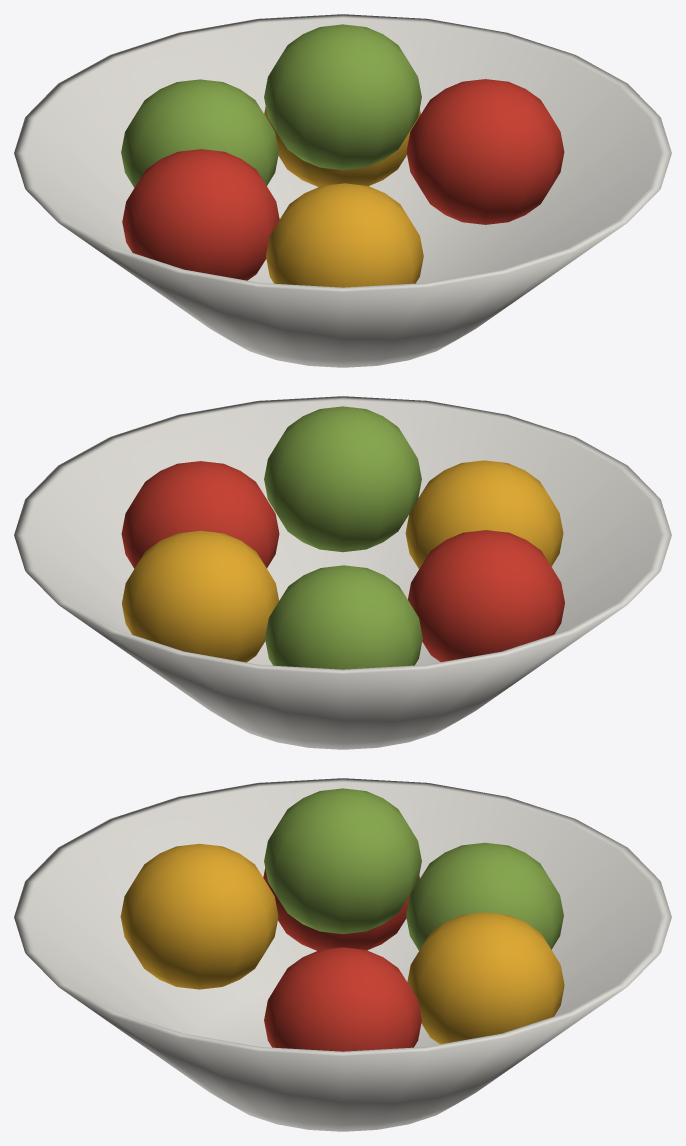
File: i_kit_6.glb
3 renders of one model, top to bottom at view 1: azimuth 30°, elevation 25°; view 2: azimuth 150°, elevation 25°; view 3: azimuth 270°, elevation 25°, orthographic.
Parts seen in each view (by area): view 1: o, o.001, o.006, o.004, o.005, o.003, o.002; view 2: o, o.006, o.004, o.002, o.003, o.001, o.005; view 3: o, o.005, o.006, o.002, o.001, o.003, o.004.
Boxes of the visible parts, <box> form: o: <box>14,14,671,367</box>; o.001: <box>406,79,564,224</box>; o.006: <box>264,24,421,170</box>; o.004: <box>122,149,279,280</box>; o.005: <box>266,183,423,287</box>; o.003: <box>121,79,278,187</box>; o.002: <box>264,107,420,186</box>; o: <box>14,396,671,749</box>; o.006: <box>264,406,421,552</box>; o.004: <box>408,530,564,662</box>; o.002: <box>122,530,278,662</box>; o.003: <box>265,565,422,669</box>; o.001: <box>121,461,279,568</box>; o.005: <box>405,460,563,568</box>; o: <box>14,778,671,1131</box>; o.005: <box>120,843,278,989</box>; o.006: <box>264,788,421,934</box>; o.002: <box>407,912,564,1044</box>; o.001: <box>264,947,421,1051</box>; o.003: <box>406,842,563,950</box>; o.004: <box>263,868,419,950</box>.
Size of the model in its own units: 0.3 by 0.1412 by 0.3.
